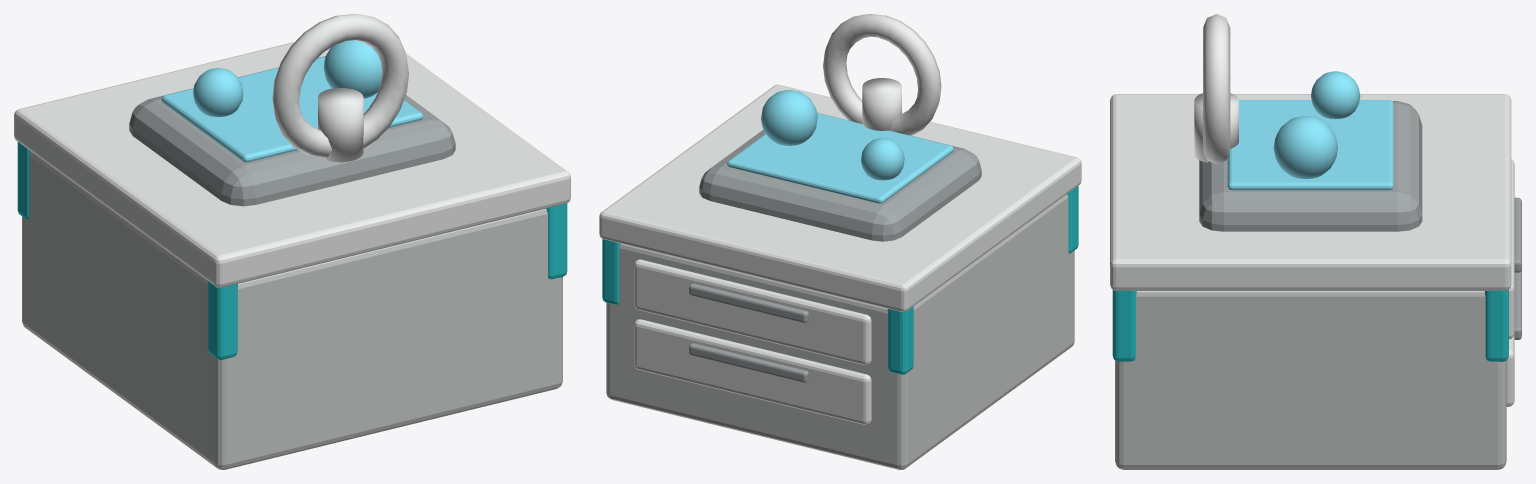
Rendered from WashingSink.fbx.
3 renders of one model, left to right at view 1: azimuth 30°, elevation 25°; view 2: azimuth 150°, elevation 25°; view 3: azimuth 270°, elevation 25°, orthographic. The views are drawn at different scales.
Parts seen in each view (by area): view 1: MAT_Steel Geometry.010, MAT_SteelLight Geometry.009, MAT_SteelDark Geometry.009, MAT_Water Geometry, MAT_Teal Geometry.008; view 2: MAT_SteelLight Geometry.009, MAT_Steel Geometry.010, MAT_SteelDark Geometry.009, MAT_Water Geometry, MAT_Teal Geometry.008; view 3: MAT_Steel Geometry.010, MAT_SteelLight Geometry.009, MAT_Water Geometry, MAT_SteelDark Geometry.009, MAT_Teal Geometry.008.
Part boxes in pixels (bbox=[...]): MAT_Steel Geometry.010: bbox=[22, 151, 562, 469]; MAT_SteelLight Geometry.009: bbox=[14, 14, 570, 287]; MAT_SteelDark Geometry.009: bbox=[129, 56, 455, 206]; MAT_Water Geometry: bbox=[161, 40, 423, 162]; MAT_Teal Geometry.008: bbox=[17, 142, 567, 359]; MAT_SteelLight Geometry.009: bbox=[599, 14, 1081, 424]; MAT_Steel Geometry.010: bbox=[606, 194, 1074, 469]; MAT_SteelDark Geometry.009: bbox=[689, 113, 981, 382]; MAT_Water Geometry: bbox=[727, 90, 953, 203]; MAT_Teal Geometry.008: bbox=[602, 186, 1078, 374]; MAT_Steel Geometry.010: bbox=[1115, 291, 1506, 469]; MAT_SteelLight Geometry.009: bbox=[1110, 14, 1514, 406]; MAT_Water Geometry: bbox=[1227, 71, 1393, 190]; MAT_SteelDark Geometry.009: bbox=[1199, 101, 1521, 339]; MAT_Teal Geometry.008: bbox=[1112, 290, 1508, 361].
Bounding box in the file's own units: 162 × 165 × 166.
